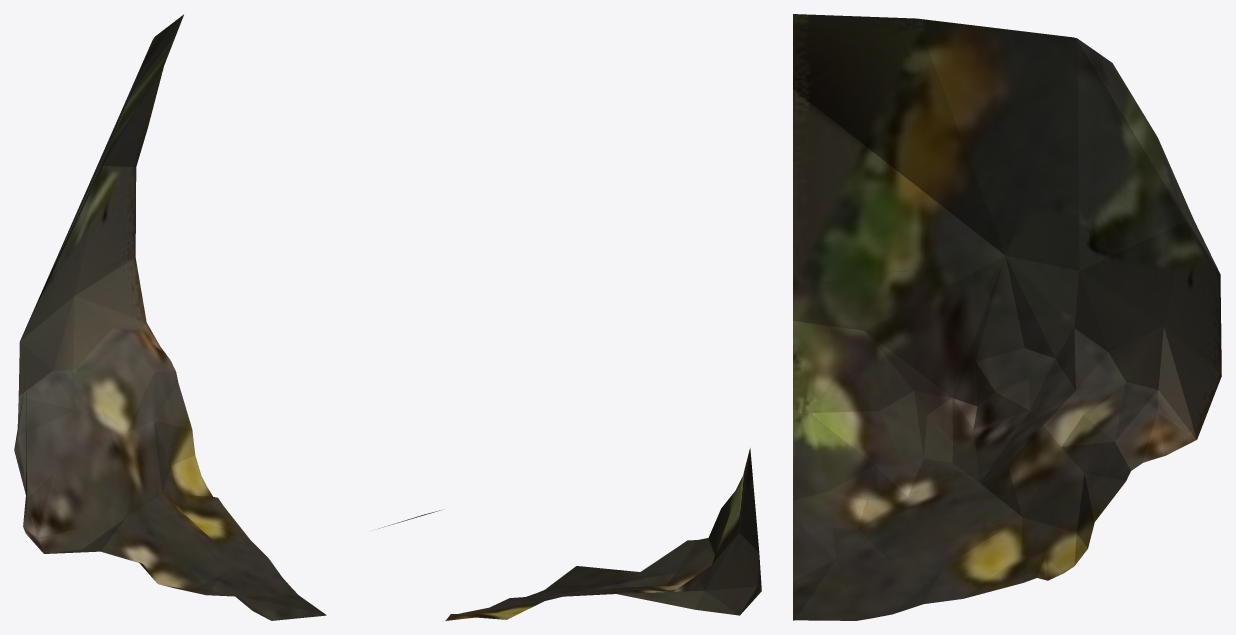
3 renders of one model, left to right at view 1: azimuth 30°, elevation 25°; view 2: azimuth 150°, elevation 25°; view 3: azimuth 270°, elevation 25°, orthographic. The views are drawn at different scales.
Bounding box in the file's own units: 0.5346 × 1.1 × 0.7689.
Materials: 1 (1 with a texture image).
